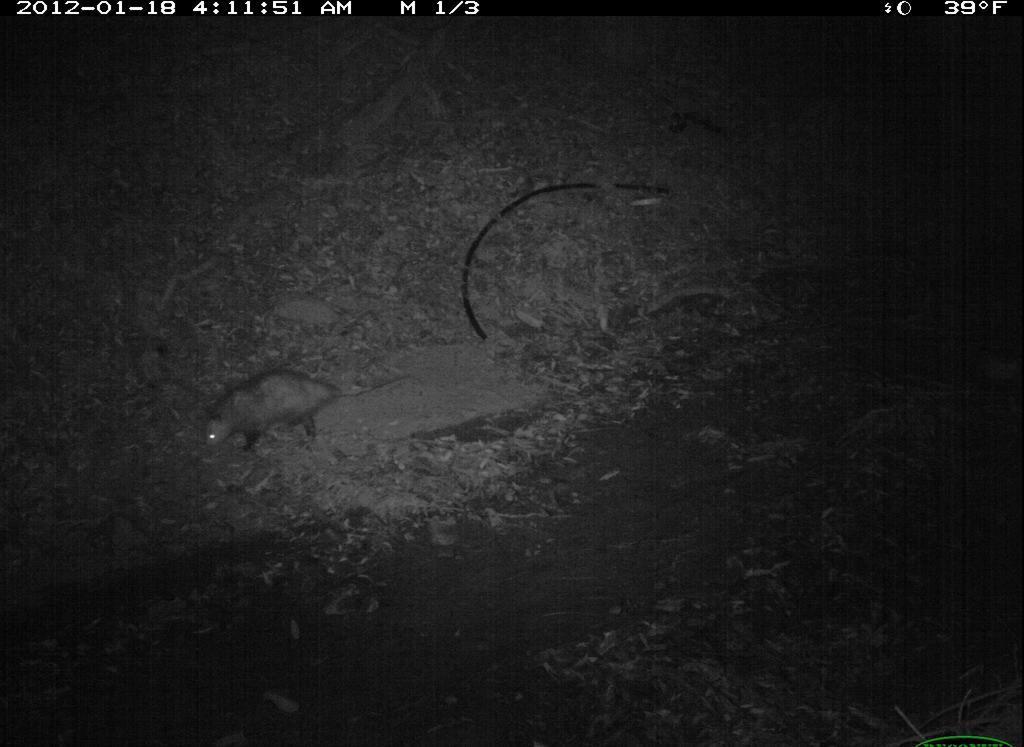opossum: (195, 358, 418, 470)
